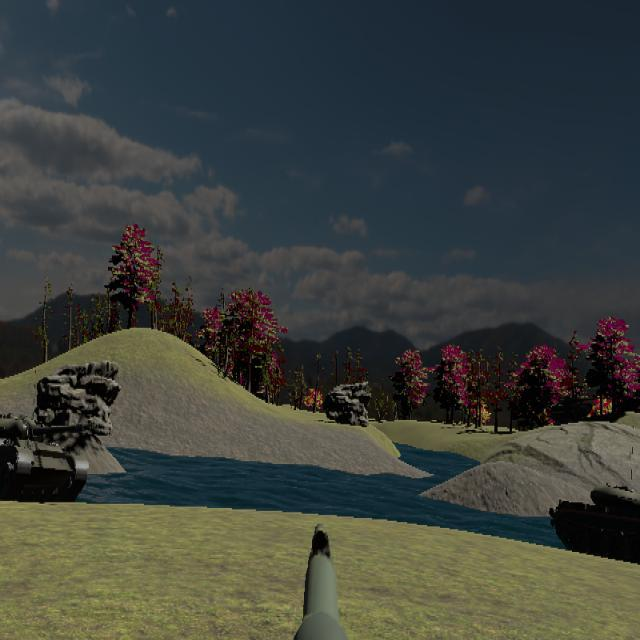Tank: (0, 411, 90, 503), (550, 482, 640, 567)
